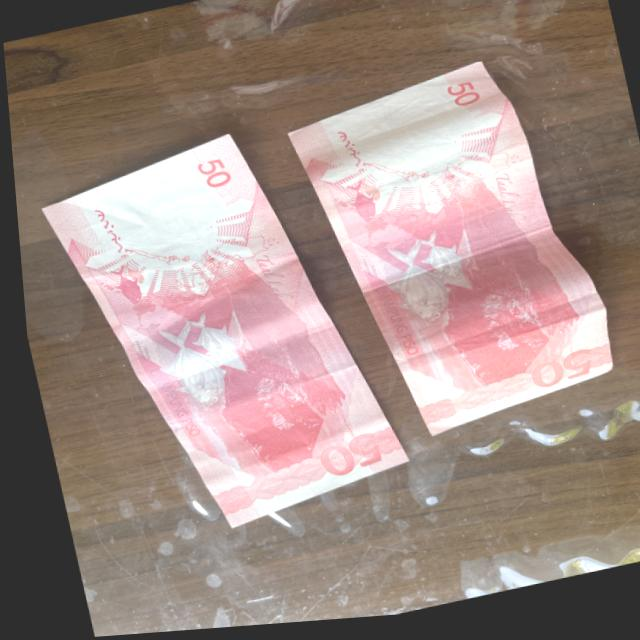50_maliputo: (142, 296, 256, 422), (372, 230, 482, 337)
50_maliputo_watermark: (91, 251, 148, 315), (330, 173, 389, 232)
value_watermark: (114, 183, 148, 211), (360, 110, 393, 136)
watermark: (92, 167, 224, 258), (348, 93, 482, 178)
